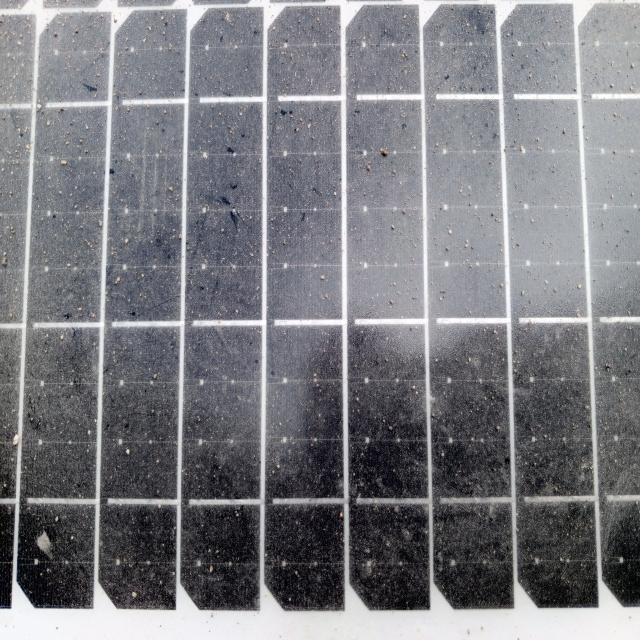Surface Contaminant: (44, 11, 639, 622)
